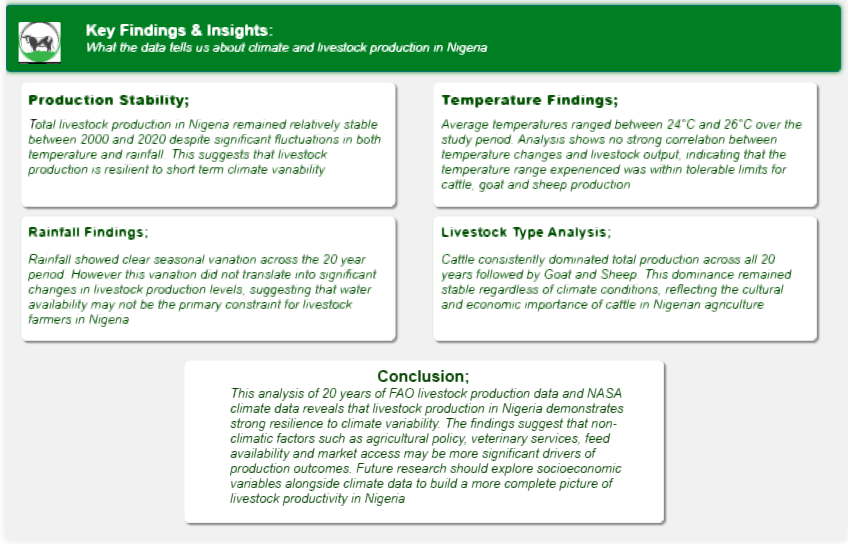

This screenshot's page, from the dashboard's own definition file:
{"tool":"powerbi","page":{"name":"Key Findings & Insights","canvas":[1400,900],"ordinal":1},"visuals":[{"type":"shape","box":[-8,0,1408,128],"z":0},{"type":"shape","box":[16,128,640,224],"z":1000},{"type":"shape","box":[704,128,656,224],"z":2000},{"type":"shape","box":[16,352,640,224],"z":3000},{"type":"shape","box":[704,352,656,224],"z":4000},{"type":"textbox","box":[128,32,720,80],"z":4001},{"type":"image","box":[0,32,112,80],"z":4002},{"type":"textbox","box":[32,144,608,64],"z":4003},{"type":"shape","box":[288,592,816,288],"z":4004},{"type":"textbox","box":[32,192,608,144],"z":4005},{"type":"textbox","box":[720,144,320,48],"z":4006},{"type":"textbox","box":[720,192,624,144],"z":4007},{"type":"textbox","box":[32,368,336,48],"z":4008},{"type":"textbox","box":[16,656,320,208],"z":4009},{"type":"textbox","box":[32,416,608,144],"z":4010},{"type":"textbox","box":[720,368,320,48],"z":4011},{"type":"textbox","box":[720,416,608,144],"z":4012},{"type":"textbox","box":[432,608,528,48],"z":4013},{"type":"textbox","box":[368,640,720,224],"z":4014}]}

Visuals, with their boxes in screenshot pixels (x1, y1, x2, y2), scaled from the page's 1400x900 canvas onto the 848x544 screenshot:
shape: [0,0,847,77]
shape: [10,77,397,213]
shape: [426,77,824,213]
shape: [10,213,397,348]
shape: [426,213,824,348]
textbox: [78,19,514,68]
image: [0,19,68,68]
textbox: [19,87,388,126]
shape: [174,358,669,532]
textbox: [19,116,388,203]
textbox: [436,87,630,116]
textbox: [436,116,814,203]
textbox: [19,222,223,251]
textbox: [10,397,204,522]
textbox: [19,251,388,338]
textbox: [436,222,630,251]
textbox: [436,251,804,338]
textbox: [262,368,581,397]
textbox: [223,387,659,522]
